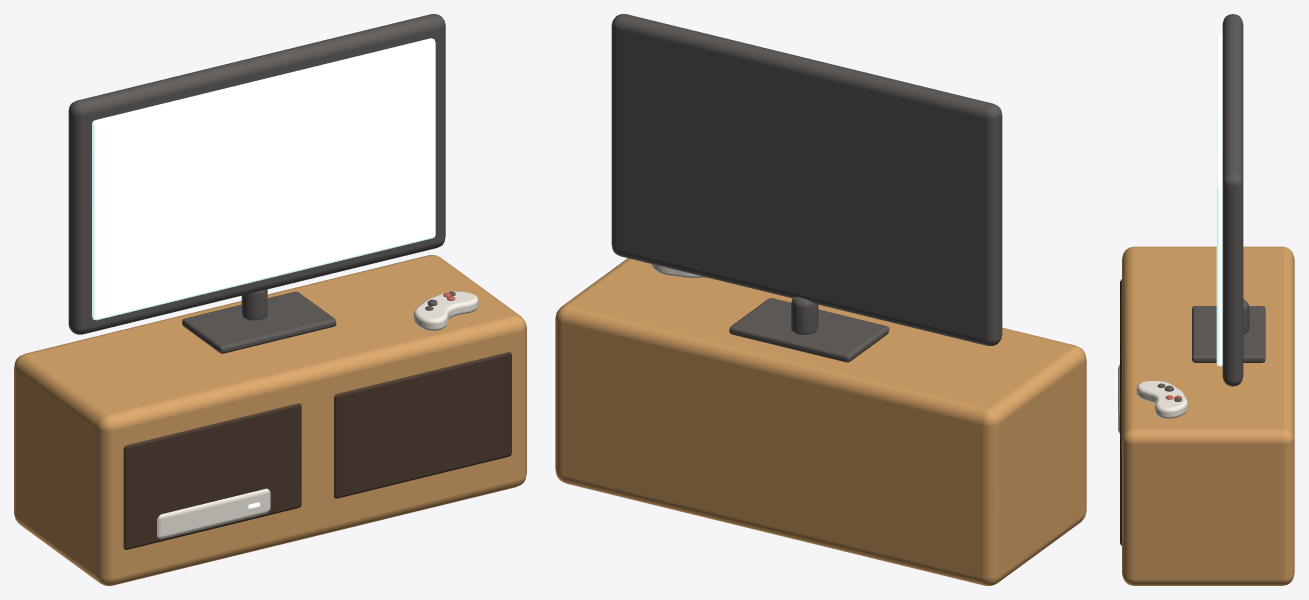
The model's file is game_tv_stand.glb.
The picture shows the model from 3 angles, left to right: view 1: azimuth 30°, elevation 25°; view 2: azimuth 150°, elevation 25°; view 3: azimuth 270°, elevation 25°; orthographic projection. The views are drawn at different scales.
Parts seen in each view (by area): view 1: game_tv_stand_mesh; view 2: game_tv_stand_mesh; view 3: game_tv_stand_mesh.
Boxes of the visible parts, <box> form: game_tv_stand_mesh: <box>14,14,526,585</box>; game_tv_stand_mesh: <box>555,14,1086,585</box>; game_tv_stand_mesh: <box>1115,14,1294,585</box>.
Size of the model in its own units: 1.1 by 1.08 by 0.436.
